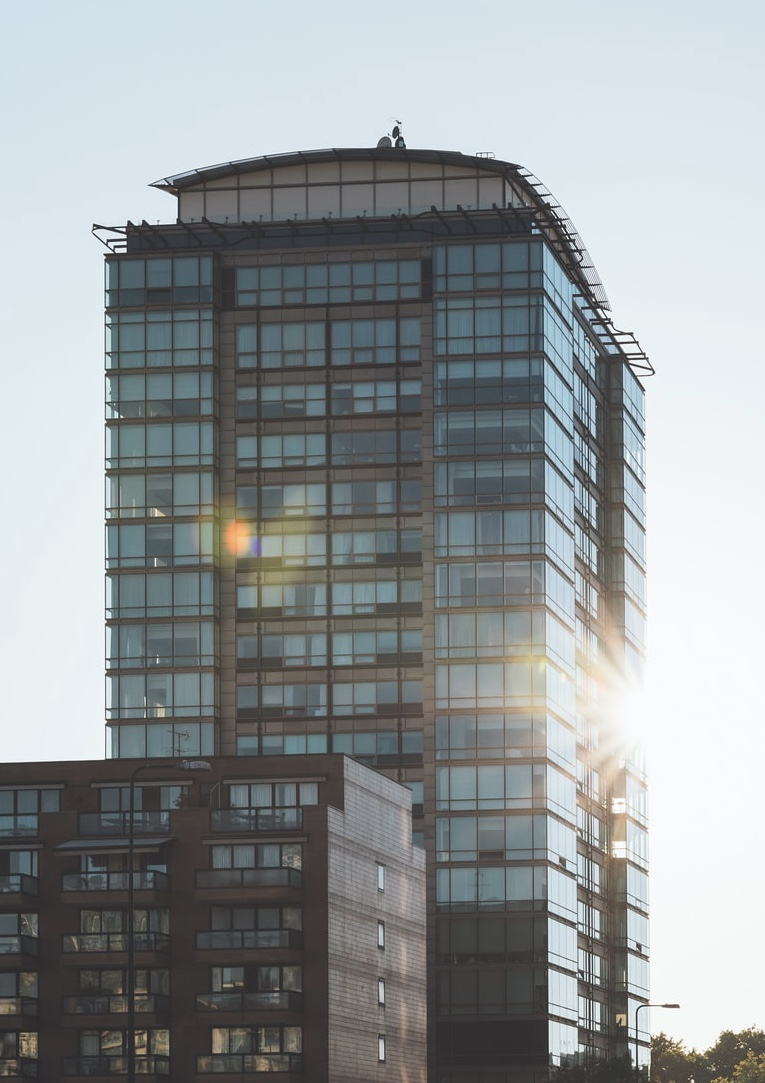Sky Building: (72, 134, 672, 1060)
